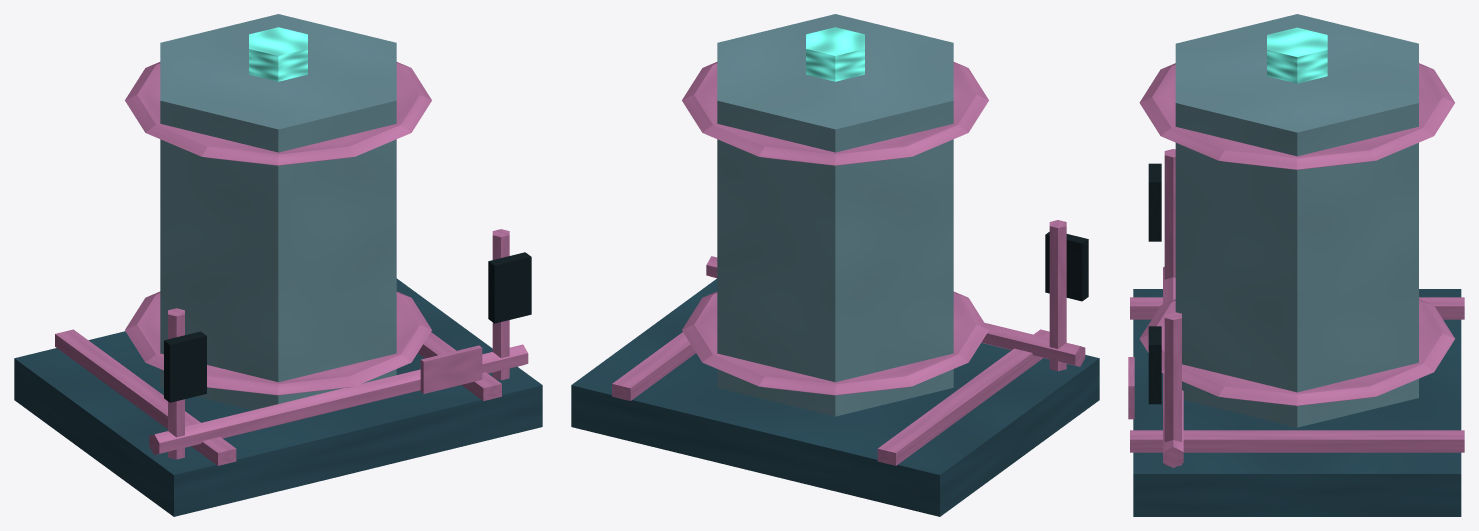
The model's file is atlas100-s064-a06.lod1.glb.
3 renders of one model, left to right at view 1: azimuth 30°, elevation 25°; view 2: azimuth 150°, elevation 25°; view 3: azimuth 270°, elevation 25°, orthographic. The views are drawn at different scales.
Parts seen in each view (by area): view 1: atlas100-s064-a06:part-003, atlas100-s064-a06:part-000, atlas100-s064-a06:part-005, atlas100-s064-a06:part-004, atlas100-s064-a06:part-012, atlas100-s064-a06:part-001, atlas100-s064-a06:part-006, atlas100-s064-a06:part-011, atlas100-s064-a06:part-009, atlas100-s064-a06:part-013, atlas100-s064-a06:part-010, atlas100-s064-a06:part-008 (+1 smaller); view 2: atlas100-s064-a06:part-003, atlas100-s064-a06:part-000, atlas100-s064-a06:part-004, atlas100-s064-a06:part-005, atlas100-s064-a06:part-001, atlas100-s064-a06:part-006, atlas100-s064-a06:part-008, atlas100-s064-a06:part-002, atlas100-s064-a06:part-012, atlas100-s064-a06:part-009; view 3: atlas100-s064-a06:part-003, atlas100-s064-a06:part-000, atlas100-s064-a06:part-005, atlas100-s064-a06:part-002, atlas100-s064-a06:part-004, atlas100-s064-a06:part-006, atlas100-s064-a06:part-010, atlas100-s064-a06:part-008, atlas100-s064-a06:part-001, atlas100-s064-a06:part-009, atlas100-s064-a06:part-011, atlas100-s064-a06:part-012 (+1 smaller).
Part boxes in pixels (x1,y1,x2,y2): atlas100-s064-a06:part-003: [160, 14, 396, 410]; atlas100-s064-a06:part-000: [14, 278, 542, 516]; atlas100-s064-a06:part-005: [125, 62, 431, 165]; atlas100-s064-a06:part-004: [125, 291, 431, 395]; atlas100-s064-a06:part-012: [149, 344, 528, 455]; atlas100-s064-a06:part-001: [55, 329, 236, 465]; atlas100-s064-a06:part-006: [249, 27, 307, 81]; atlas100-s064-a06:part-011: [488, 252, 531, 323]; atlas100-s064-a06:part-009: [164, 331, 206, 402]; atlas100-s064-a06:part-013: [420, 345, 482, 393]; atlas100-s064-a06:part-010: [492, 229, 509, 380]; atlas100-s064-a06:part-008: [168, 308, 184, 459]; atlas100-s064-a06:part-003: [717, 14, 953, 416]; atlas100-s064-a06:part-000: [571, 278, 1099, 516]; atlas100-s064-a06:part-004: [682, 291, 988, 395]; atlas100-s064-a06:part-005: [682, 62, 988, 165]; atlas100-s064-a06:part-001: [877, 329, 1049, 465]; atlas100-s064-a06:part-006: [806, 27, 864, 81]; atlas100-s064-a06:part-008: [1049, 220, 1066, 371]; atlas100-s064-a06:part-002: [612, 332, 695, 400]; atlas100-s064-a06:part-012: [706, 256, 1085, 366]; atlas100-s064-a06:part-009: [1045, 232, 1088, 301]; atlas100-s064-a06:part-003: [1175, 14, 1418, 427]; atlas100-s064-a06:part-000: [1133, 289, 1461, 516]; atlas100-s064-a06:part-005: [1139, 63, 1454, 169]; atlas100-s064-a06:part-002: [1130, 430, 1464, 452]; atlas100-s064-a06:part-004: [1139, 299, 1454, 405]; atlas100-s064-a06:part-006: [1267, 27, 1327, 83]; atlas100-s064-a06:part-010: [1164, 311, 1181, 465]; atlas100-s064-a06:part-008: [1164, 149, 1175, 279]; atlas100-s064-a06:part-001: [1130, 297, 1464, 319]; atlas100-s064-a06:part-009: [1148, 163, 1161, 241]; atlas100-s064-a06:part-011: [1148, 326, 1161, 404]; atlas100-s064-a06:part-012: [1163, 266, 1183, 467].
Bounding box in the file's own units: 2.4 × 2.31 × 1.85.
5 materials, 5 textured.
